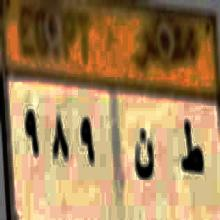8: (48, 108, 68, 176)
9: (24, 100, 41, 163), (82, 112, 96, 170)
Taa: (177, 115, 203, 189)
noon: (133, 127, 156, 189)
